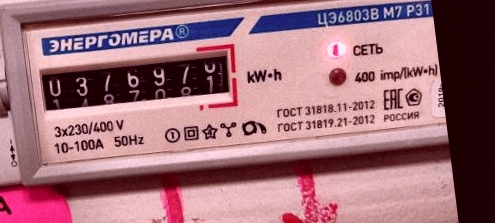0: (44, 73, 61, 97)
1: (202, 72, 216, 93)
3: (73, 74, 89, 96)
6: (123, 63, 141, 88)
7: (97, 67, 115, 93), (175, 60, 193, 84)
9: (149, 62, 165, 86)
screen: (28, 31, 245, 132)
